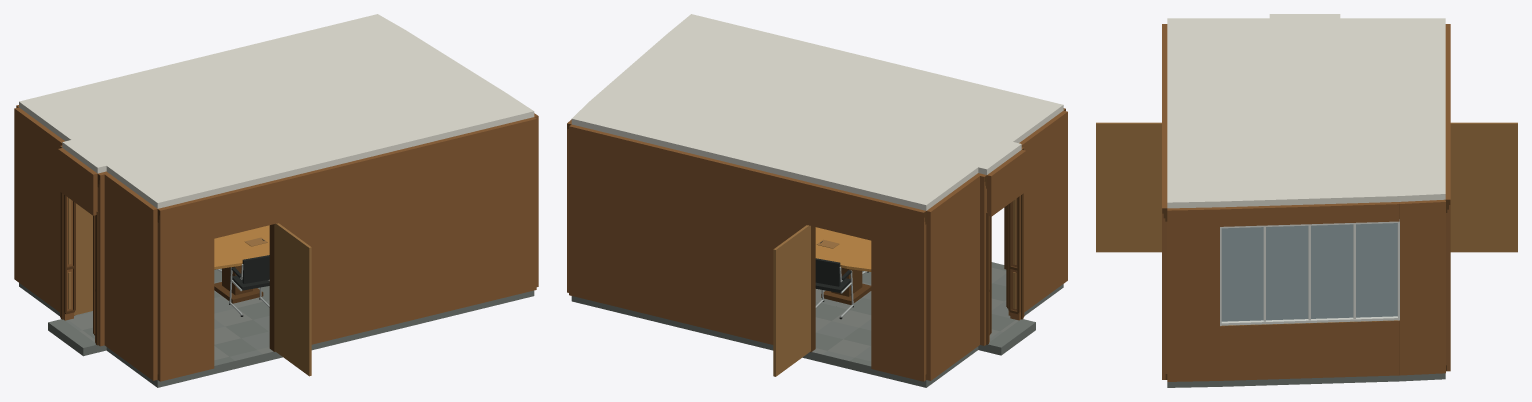
File: con-interior.glb
The picture shows the model from 3 angles, left to right: view 1: azimuth 30°, elevation 25°; view 2: azimuth 150°, elevation 25°; view 3: azimuth 270°, elevation 25°; orthographic projection.
Visible parts, largest first — view 1: CON_INTERIOR; view 2: CON_INTERIOR; view 3: CON_INTERIOR.
Part boxes in pixels (<box>): CON_INTERIOR: <box>14,14,538,387</box>; CON_INTERIOR: <box>567,14,1067,387</box>; CON_INTERIOR: <box>1096,14,1517,387</box>.
Size of the model in its own units: 7.3 by 3.19 by 6.58.
